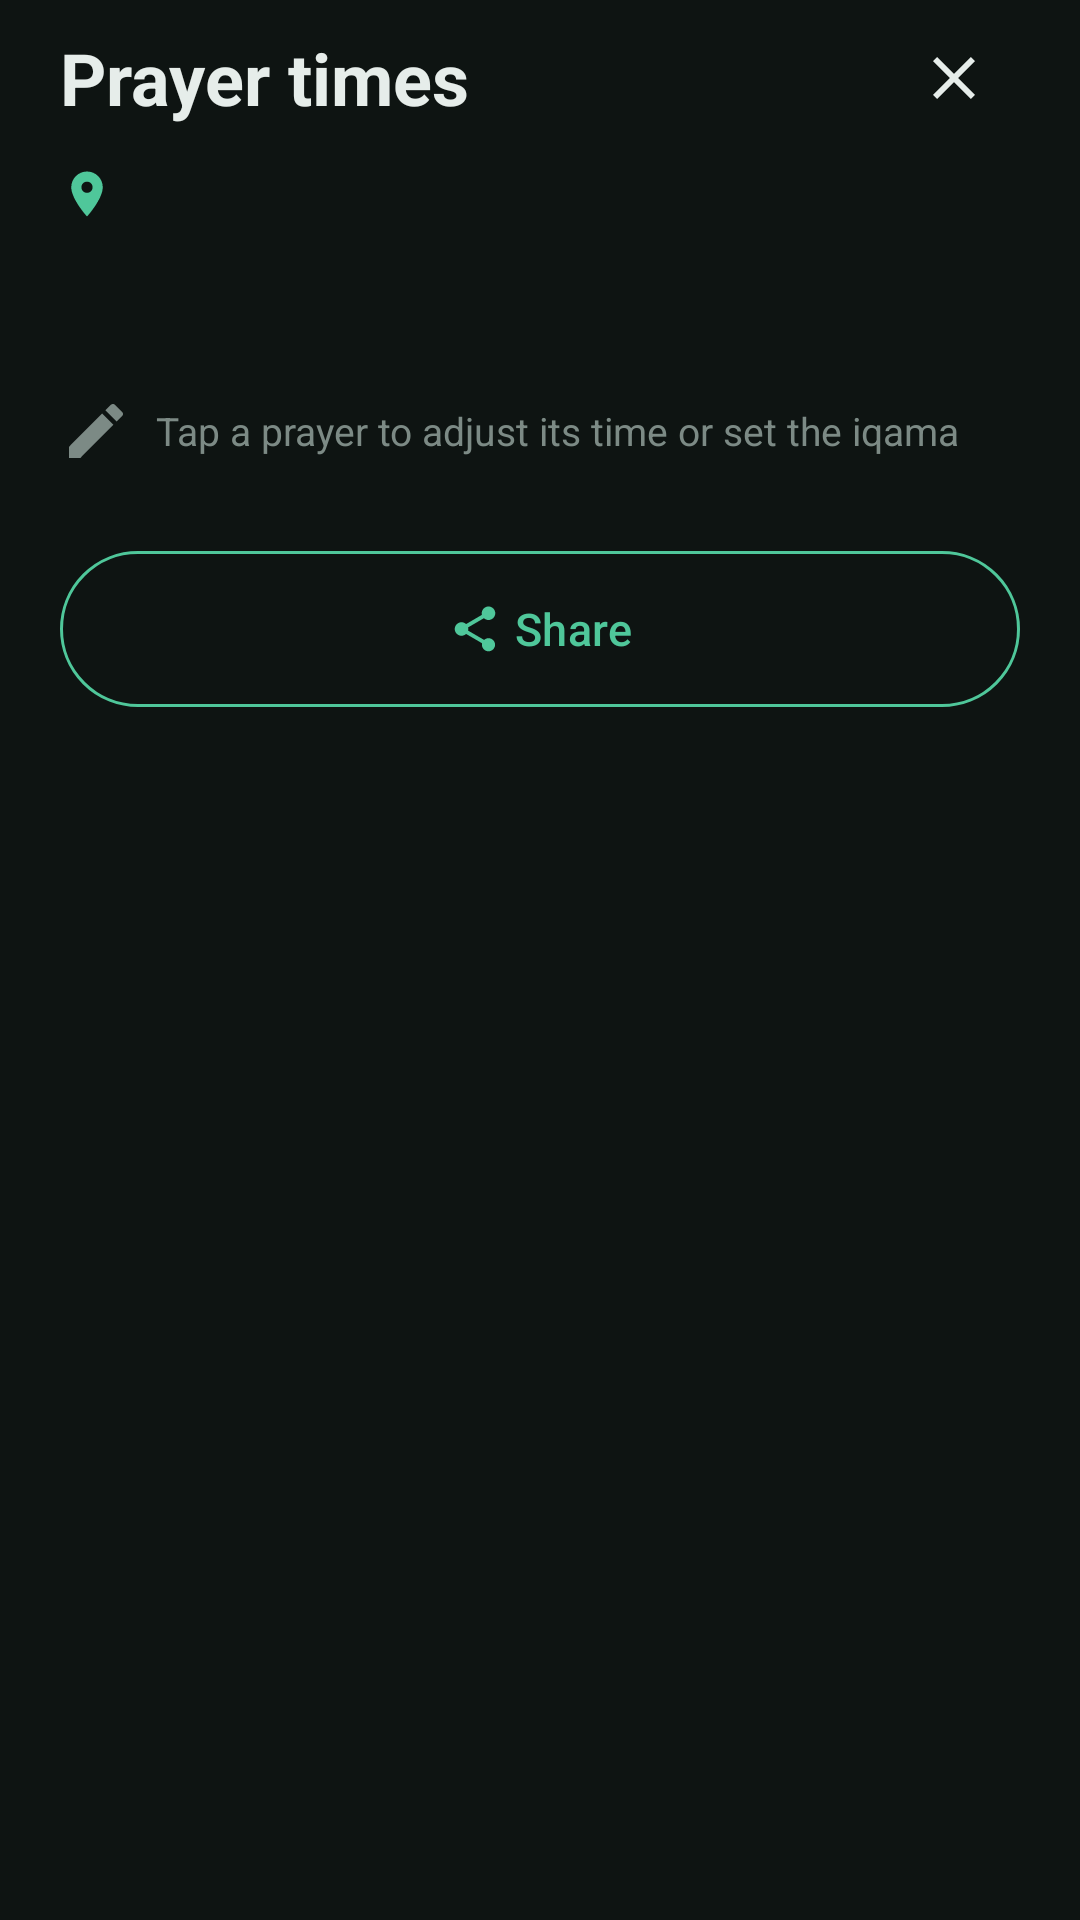

Icons on this 1080*1920 Android screen, each with its box as Rect(x1, y1, x2, y2):
Close: Rect(933, 57, 975, 99)
place: Rect(71, 171, 103, 216)
